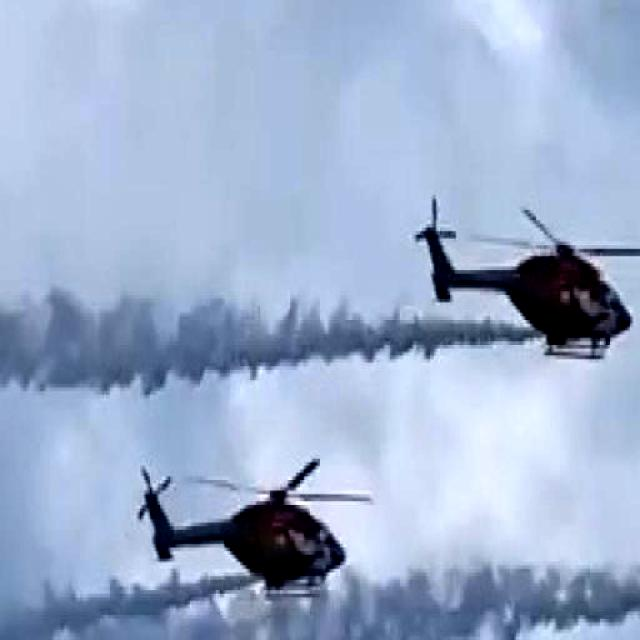drone: (415, 186, 640, 364), (138, 460, 369, 602)
